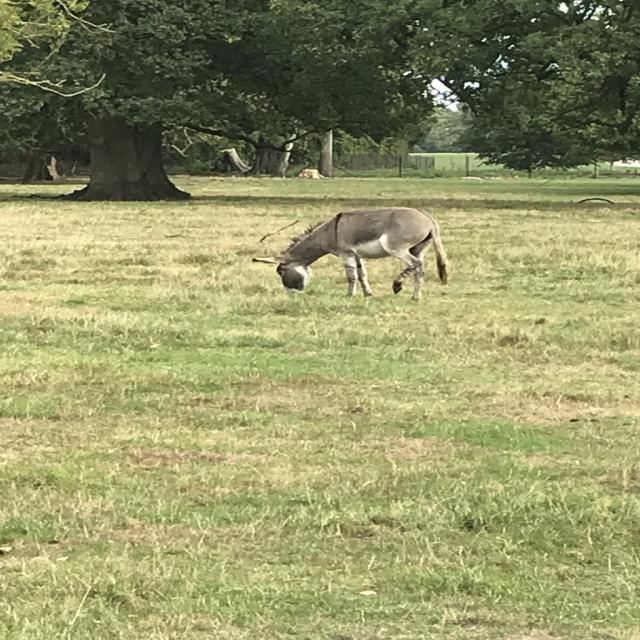Donkey: (250, 205, 451, 304)
